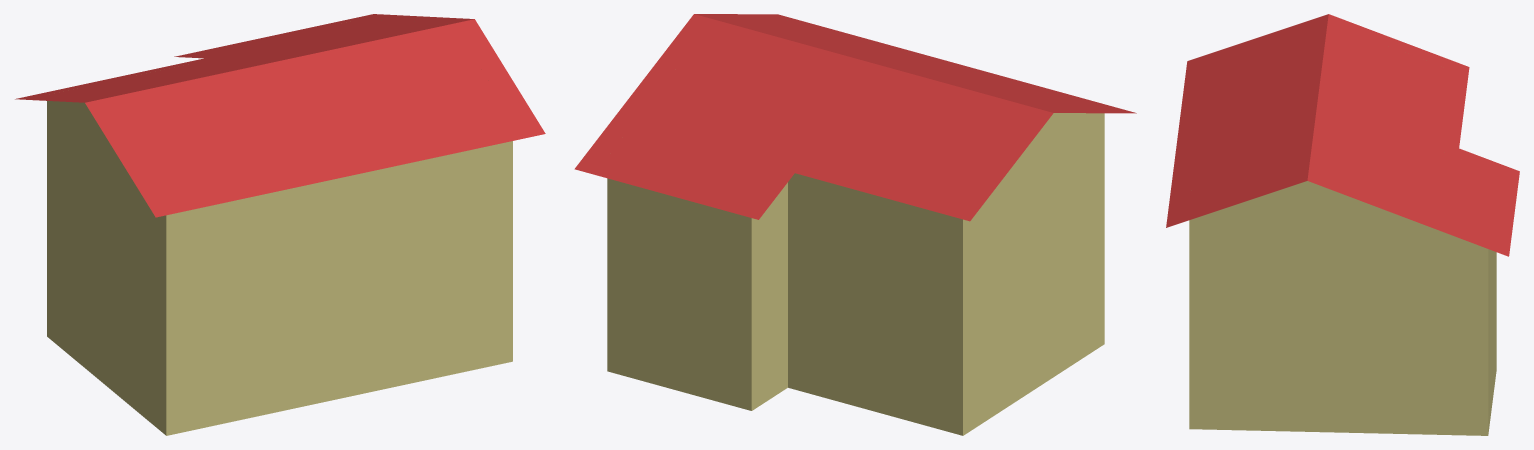
3 renders of one model, left to right at view 1: azimuth 30°, elevation 25°; view 2: azimuth 150°, elevation 25°; view 3: azimuth 270°, elevation 25°, orthographic. The views are drawn at different scales.
Bounding box in the file's own units: 14.08 × 12.06 × 9.79.
